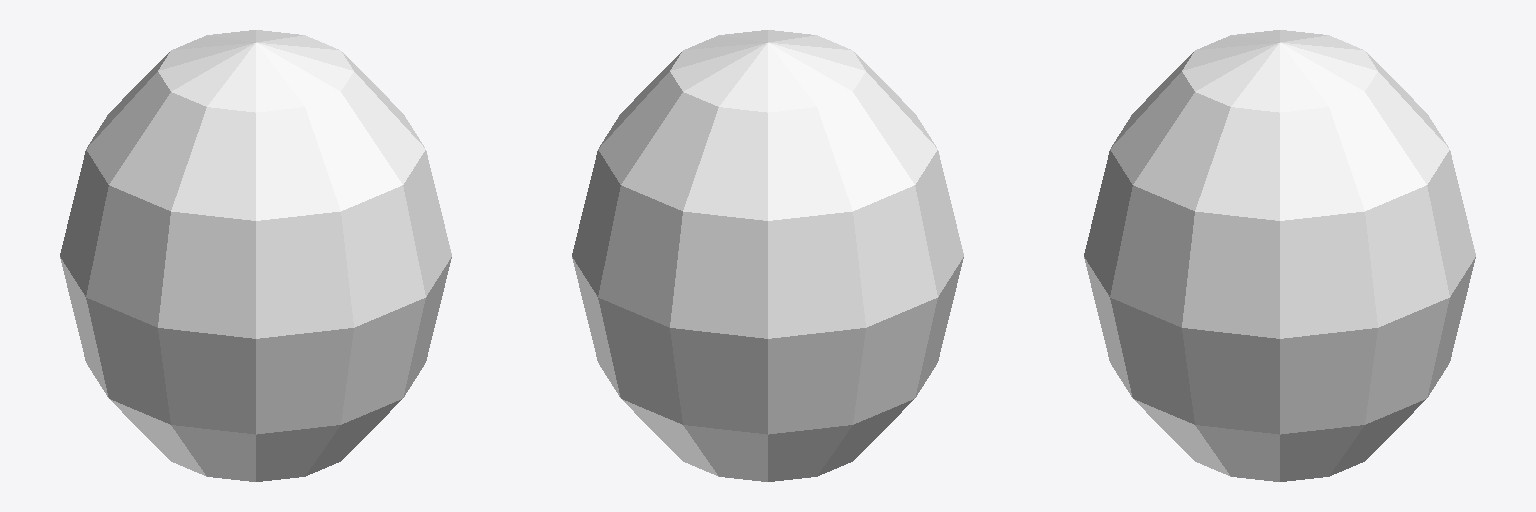
3 renders of one model, left to right at view 1: azimuth 30°, elevation 25°; view 2: azimuth 150°, elevation 25°; view 3: azimuth 270°, elevation 25°, orthographic.
Visible parts, largest first — view 1: sphere; view 2: sphere; view 3: sphere.
Boxes of the visible parts, <box> form: sphere: <box>60,30,451,481</box>; sphere: <box>572,30,963,481</box>; sphere: <box>1084,30,1475,481</box>.
Bounding box in the file's own units: 0.625 × 0.75 × 0.625.
Materials: 1 (1 with a texture image).